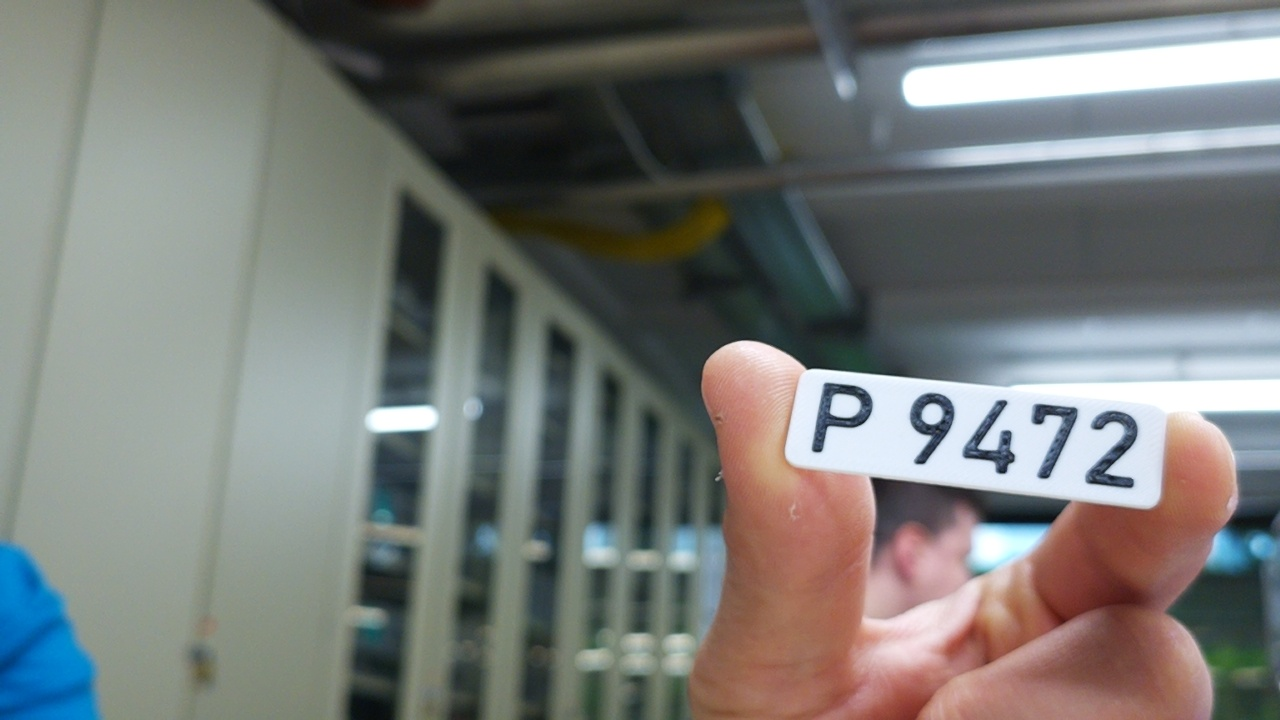license_plate: (781, 364, 1169, 512)
